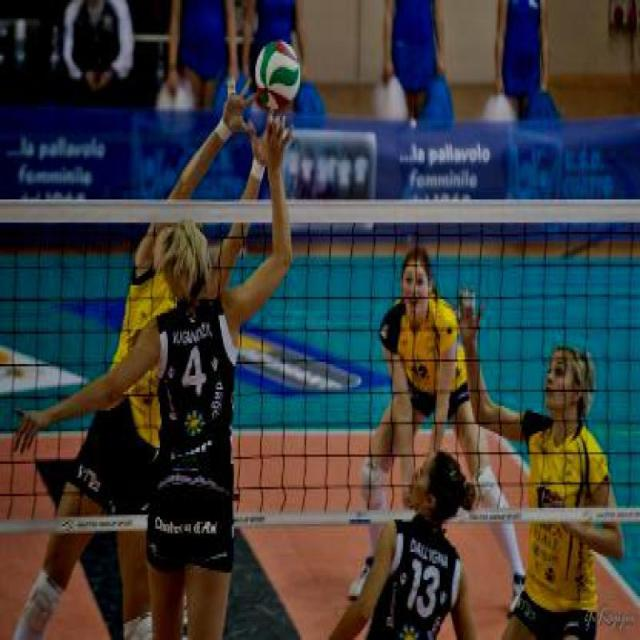volleyball: (255, 37, 302, 107)
